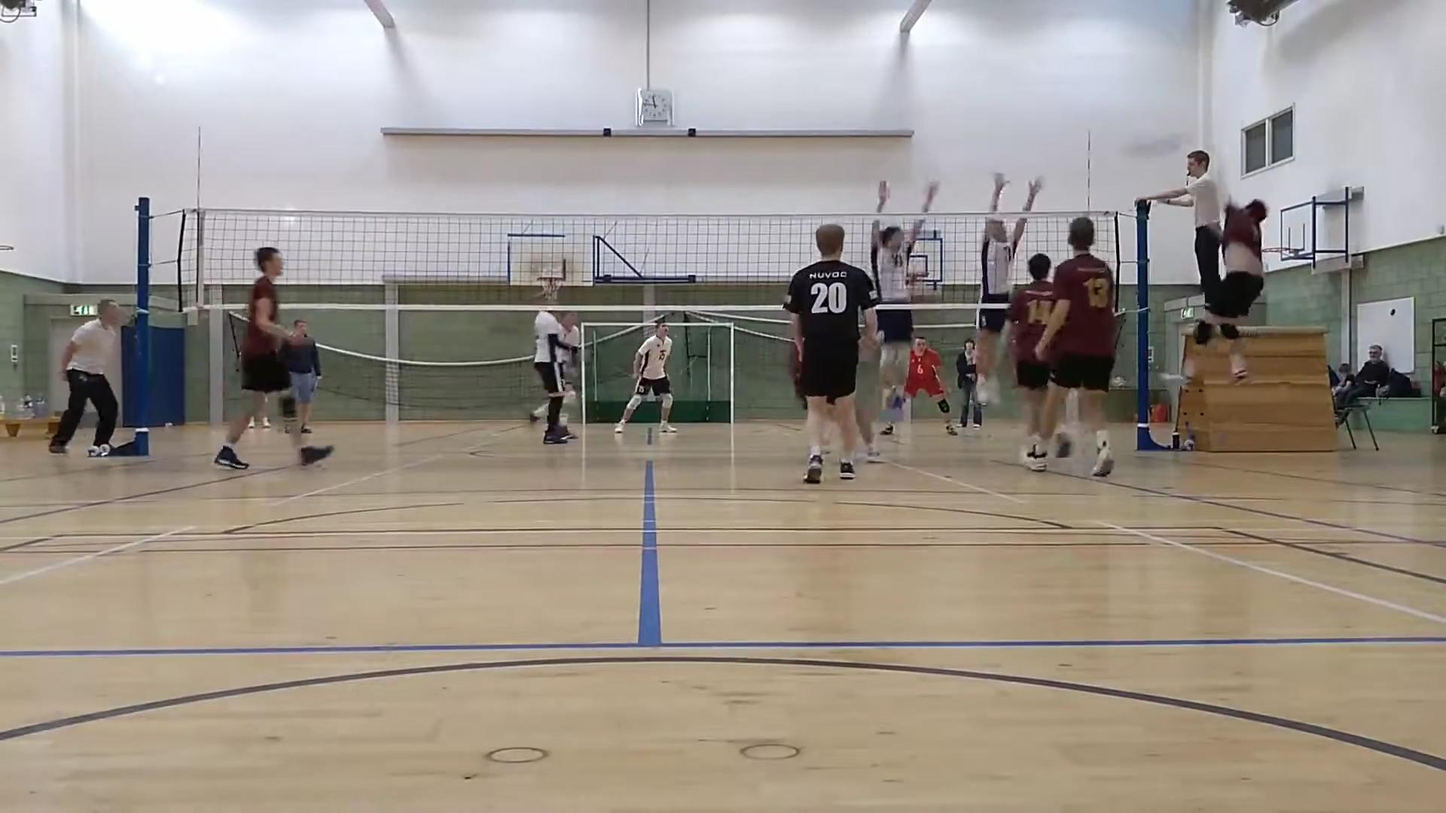Attack: (1182, 171, 1279, 389)
Block: (972, 159, 1050, 419), (864, 167, 941, 430)
Player: (214, 247, 332, 469), (785, 224, 878, 483), (1035, 217, 1115, 477), (1008, 254, 1054, 470), (614, 321, 676, 433), (534, 308, 575, 443), (905, 337, 956, 434), (854, 336, 883, 462), (559, 313, 581, 439)
